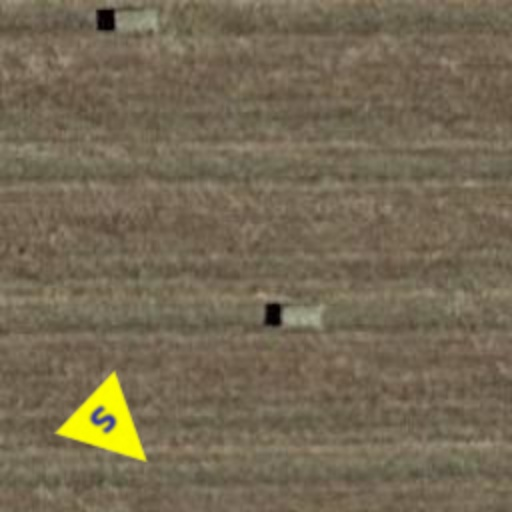triangle: (54, 370, 178, 494)
